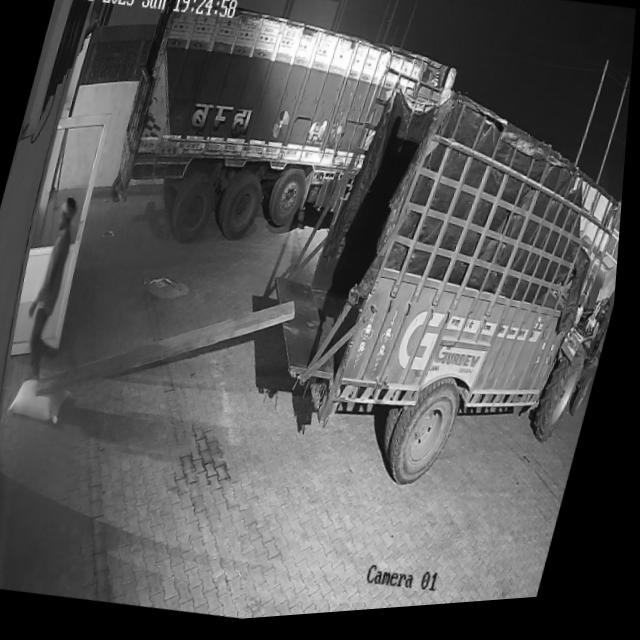sack: (12, 376, 80, 429)
